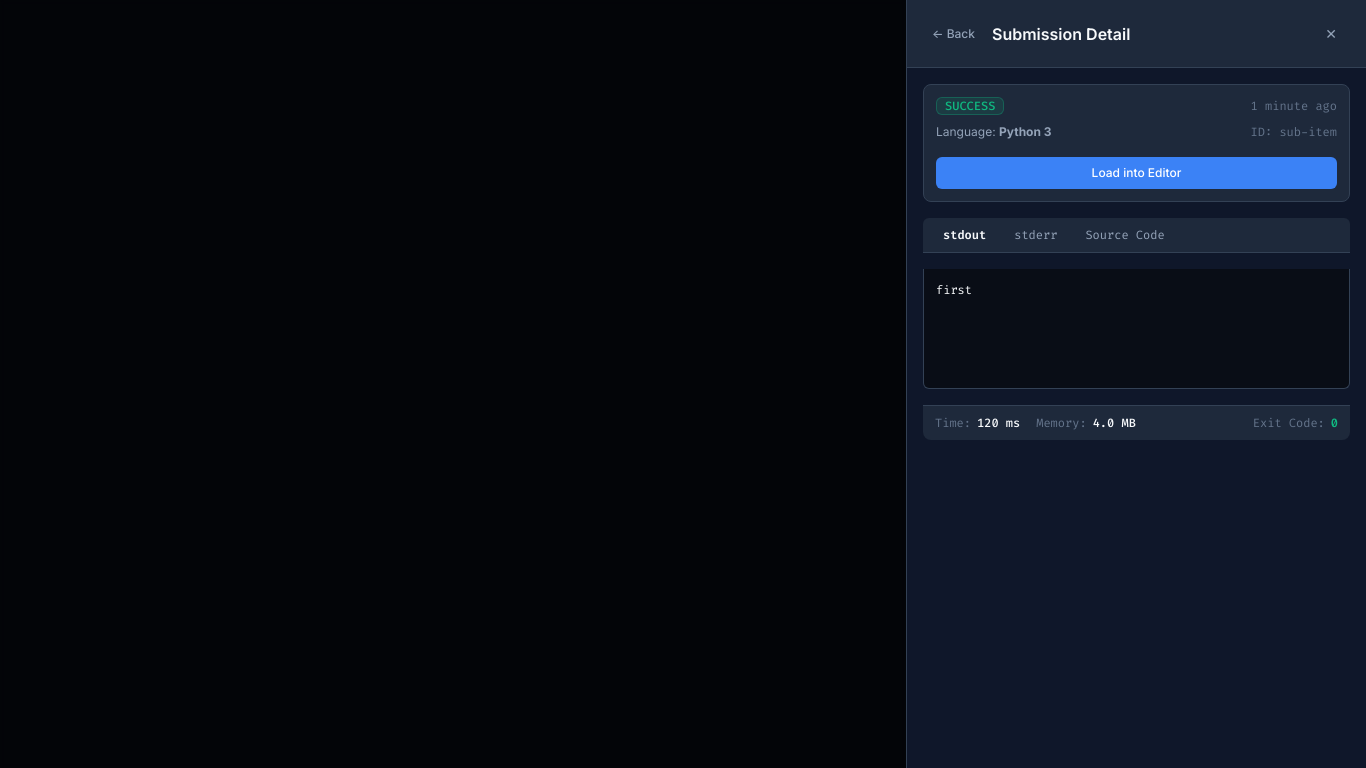
Test: HistoryDrawer › 14. switching tabs in detail view displays stderr and source code
# Switch to code tab
Click the tab "Source Code" at (1125, 235), box [1073,218,1177,252]
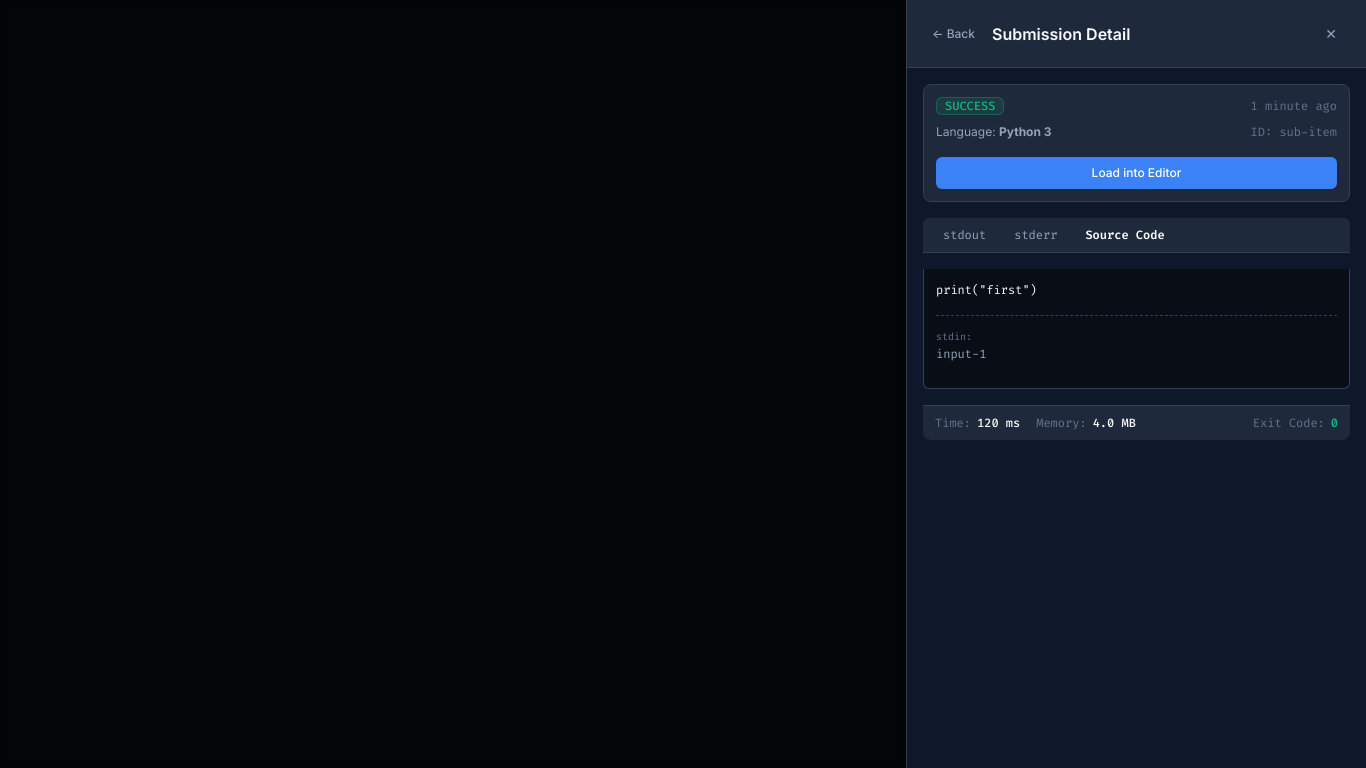
expect the text "print(\"first\")" is shown: met, box [936,282,1037,298]
expect the text "input-1" is shown: met, box [936,346,986,362]
